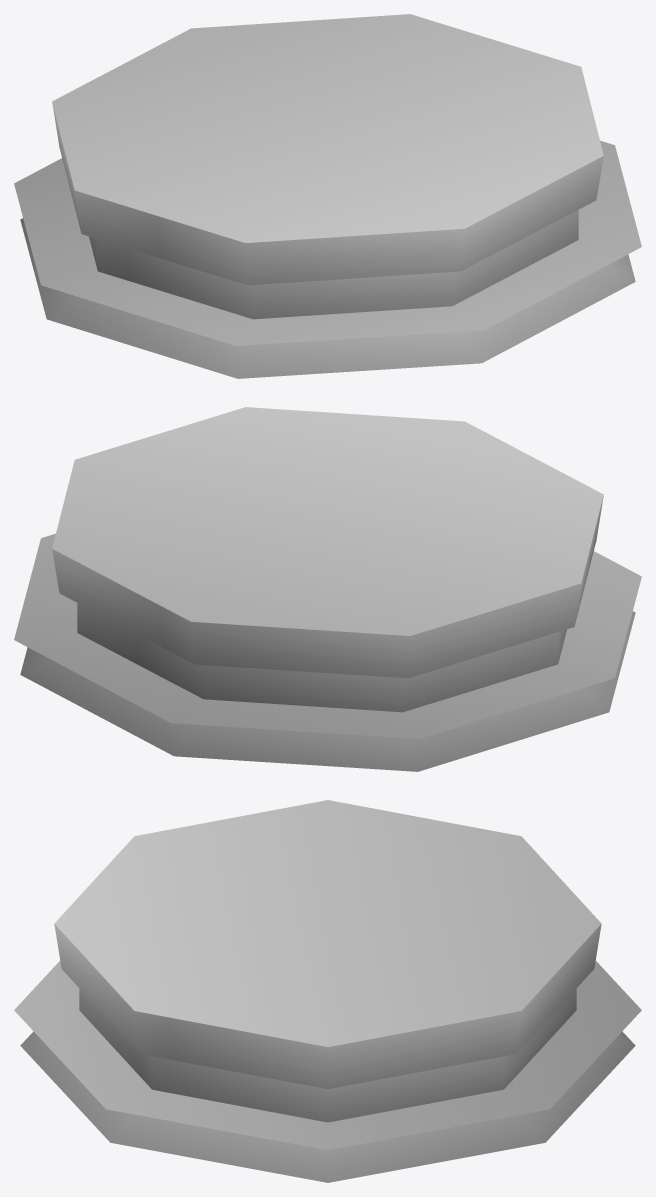
File: stone_guard_062.glb
3 renders of one model, top to bottom at view 1: azimuth 30°, elevation 25°; view 2: azimuth 150°, elevation 25°; view 3: azimuth 270°, elevation 25°, orthographic.
Visible parts, largest first — view 1: stone_guard.062; view 2: stone_guard.062; view 3: stone_guard.062.
Part boxes in pixels (bbox=[...]): stone_guard.062: bbox=[14, 14, 641, 378]; stone_guard.062: bbox=[14, 407, 641, 771]; stone_guard.062: bbox=[14, 800, 641, 1182].
Size of the model in its own units: 4.9 by 0.9958 by 4.64.
1 material, 1 textured.
